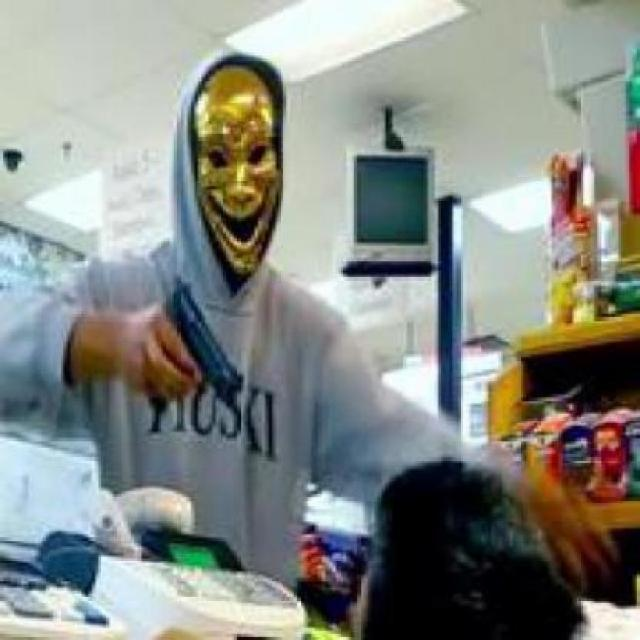gun: (133, 276, 244, 398)
